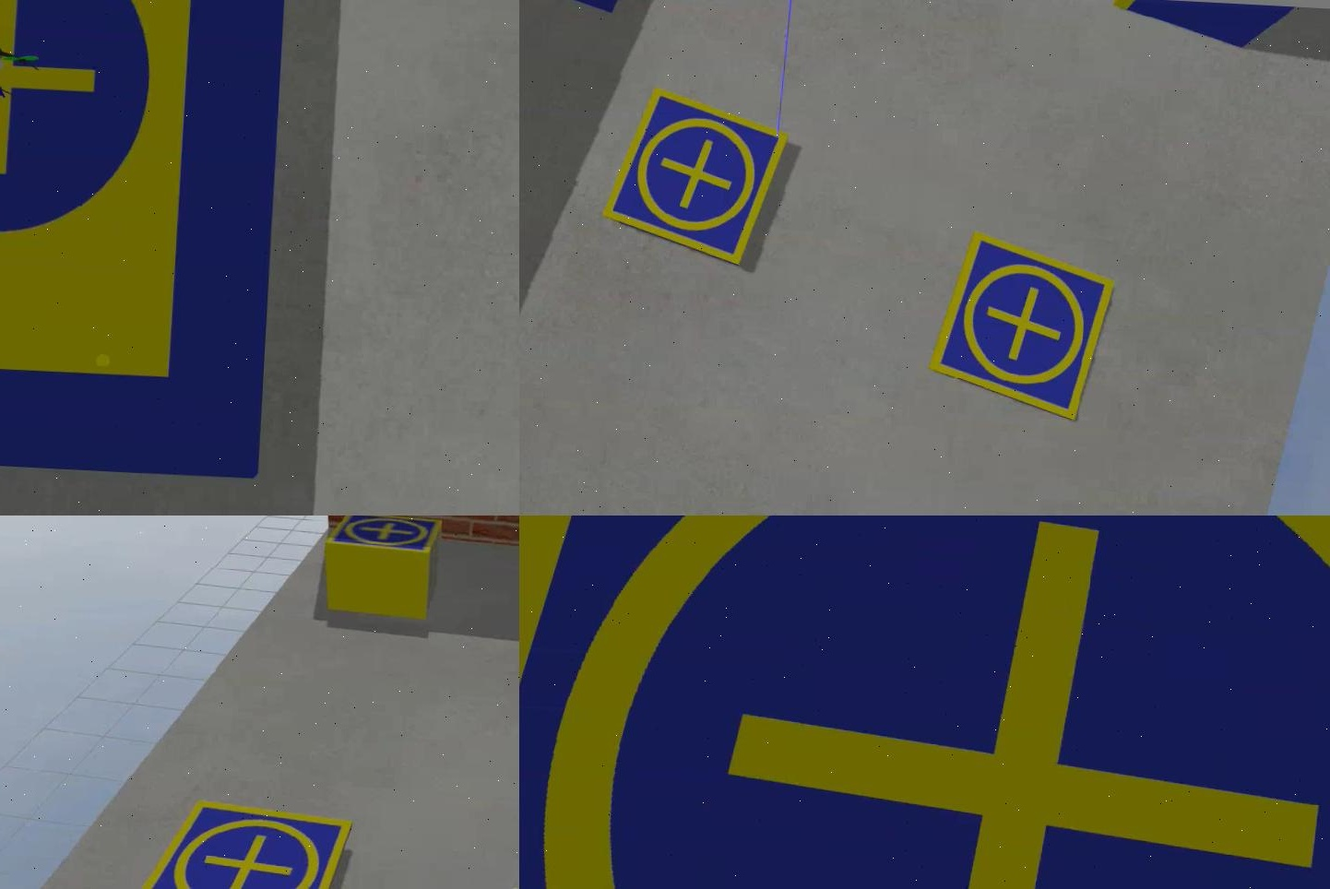large_base: (517, 516, 1328, 889), (0, 1, 285, 476)
small_base: (926, 232, 1113, 424), (599, 89, 786, 266), (119, 798, 350, 889), (323, 516, 441, 561)
